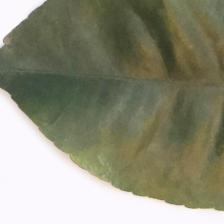healthy: (19, 4, 224, 198)
